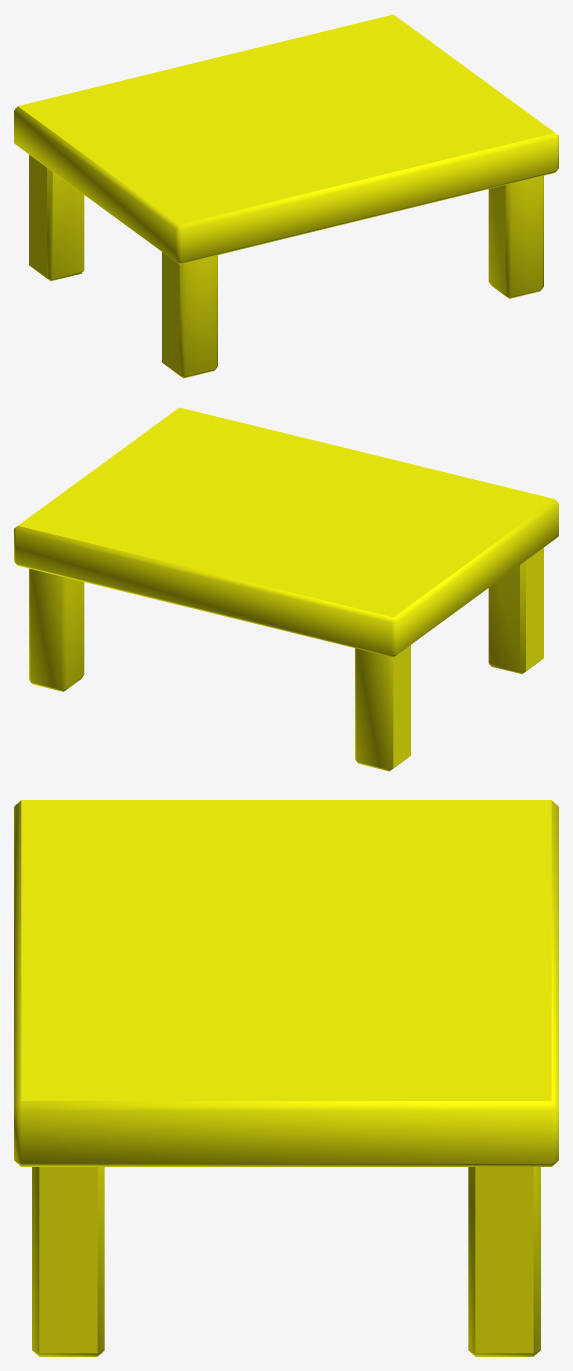
The model's file is kaykit-prototype-table-medium.glb.
3 views of the same model, one above another, from view 1: azimuth 30°, elevation 25°; view 2: azimuth 150°, elevation 25°; view 3: azimuth 270°, elevation 25° (orthographic). The views are drawn at different scales.
Visible parts, largest first — view 1: table_medium; view 2: table_medium; view 3: table_medium.
Boxes of the visible parts, x1=… form: table_medium: x1=14, y1=14, x2=558, y2=378; table_medium: x1=14, y1=407, x2=558, y2=771; table_medium: x1=14, y1=800, x2=558, y2=1356.
Size of the model in its own units: 2 by 0.7999 by 1.5.
